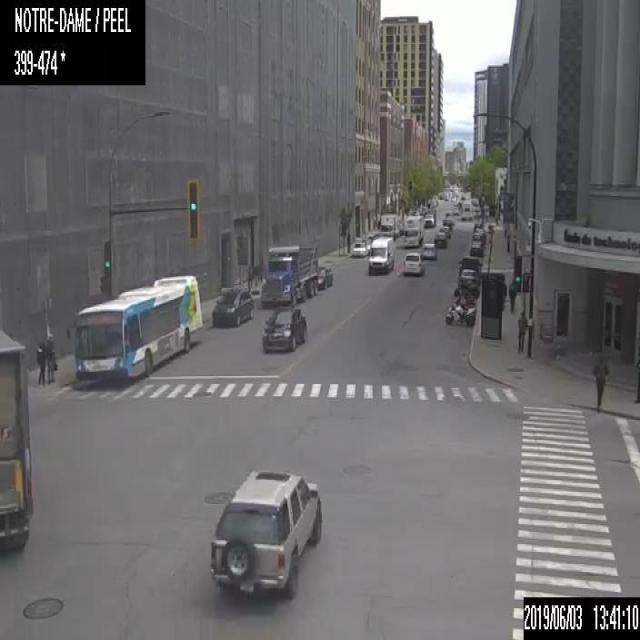bus: (71, 272, 204, 385), (461, 201, 472, 220)
pedestrian: (593, 353, 609, 411), (45, 338, 57, 384), (35, 340, 46, 385), (516, 309, 526, 351), (508, 273, 516, 312), (634, 346, 639, 402), (502, 276, 506, 310)
vehicle: (209, 467, 322, 597), (0, 324, 34, 552), (260, 244, 318, 306), (261, 305, 306, 352), (211, 284, 254, 327), (368, 235, 394, 272), (444, 302, 476, 324), (403, 215, 423, 247), (458, 254, 481, 276), (379, 212, 398, 238), (403, 252, 424, 275), (458, 268, 480, 287), (454, 280, 478, 297), (455, 288, 474, 307), (317, 265, 332, 288), (422, 242, 436, 259), (352, 241, 366, 257), (470, 240, 482, 256), (423, 209, 435, 225), (434, 232, 446, 248), (438, 225, 450, 237), (471, 232, 485, 242), (441, 218, 452, 230), (472, 222, 482, 231), (473, 227, 484, 235)
